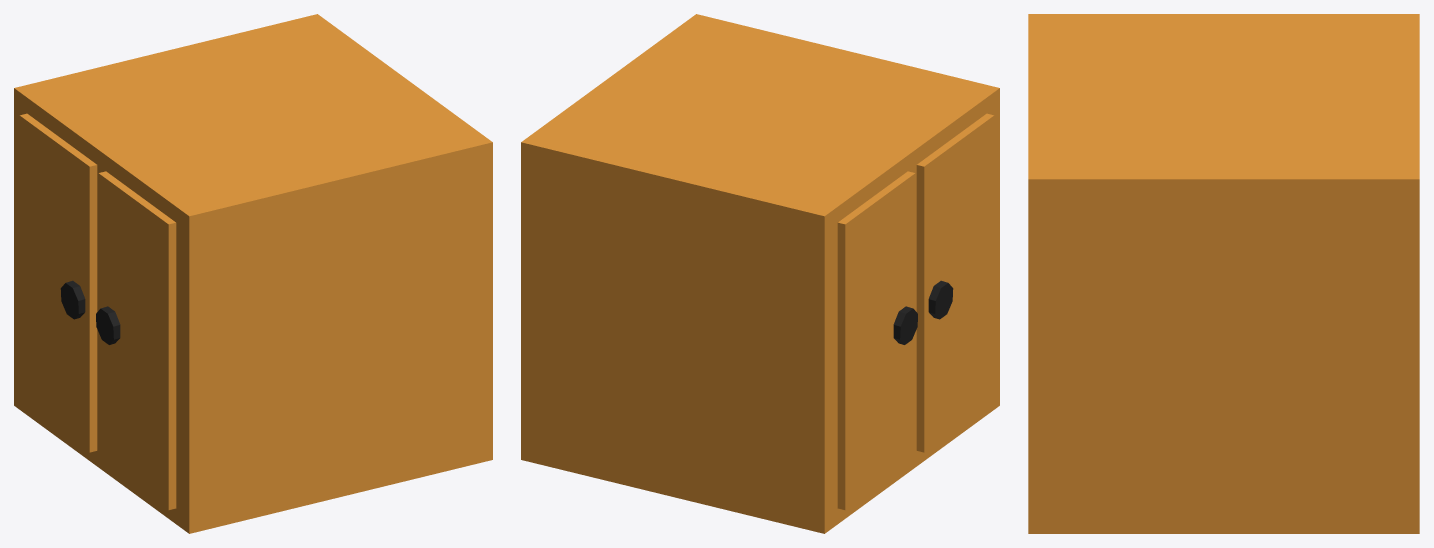
File: muebleCocina1.glb
The picture shows the model from 3 angles, left to right: view 1: azimuth 30°, elevation 25°; view 2: azimuth 150°, elevation 25°; view 3: azimuth 270°, elevation 25°; orthographic projection. The views are drawn at different scales.
Visible parts, largest first — view 1: cuboid (×3), cylinder (×2); view 2: cuboid (×3), cylinder (×2); view 3: cuboid.
Boxes of the visible parts, <box> form: cuboid (×3): <box>14,14,492,533</box>; cylinder (×2): <box>60,280,120,344</box>; cuboid (×3): <box>521,14,999,533</box>; cylinder (×2): <box>893,280,953,344</box>; cuboid: <box>1028,14,1419,533</box>.
Size of the model in its own units: 0.656 by 0.625 by 0.625.
Materials: 1 (1 with a texture image).
